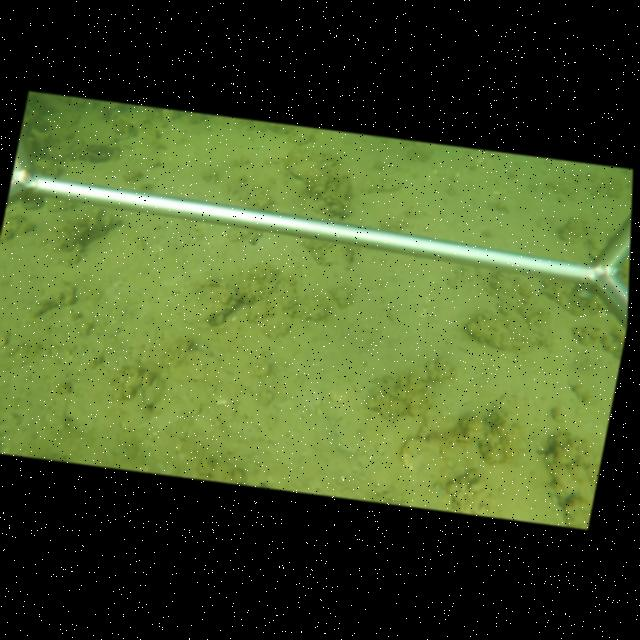Oyster-Indeterminate: (286, 150, 316, 179)
Oyster-Open: (66, 141, 114, 162)
